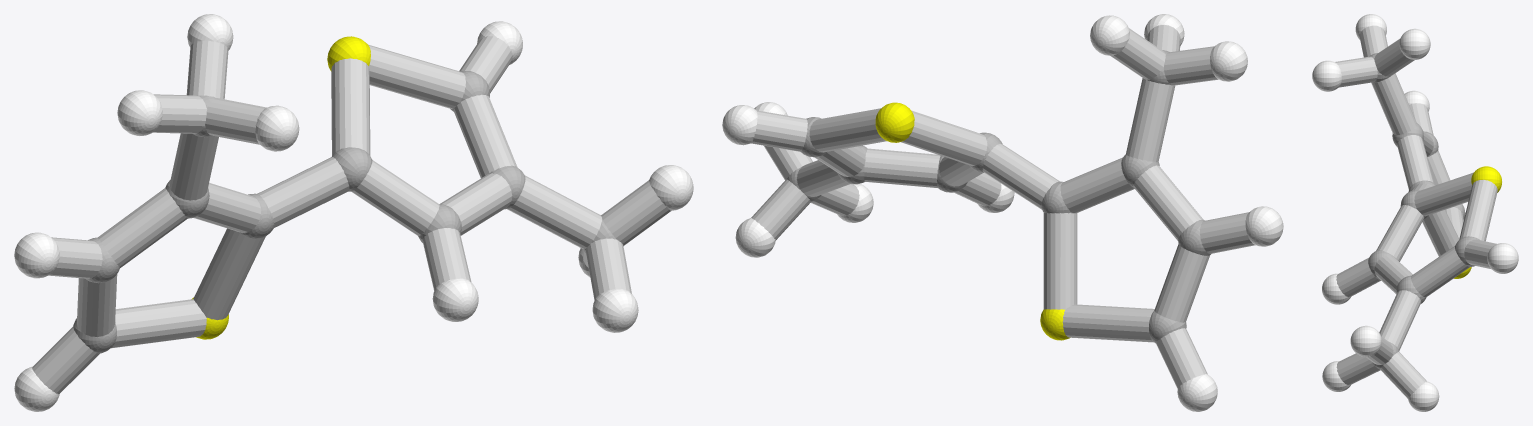
Rendered from Methylthiophene_Phi_30_Theta_290_Methylthiophene.glb.
3 views of the same model, side by side, from view 1: azimuth 30°, elevation 25°; view 2: azimuth 150°, elevation 25°; view 3: azimuth 270°, elevation 25° (orthographic). The views are drawn at different scales.
Parts seen in each view (by area): view 1: grp7965, grp3621, grp1, grp7241; view 2: grp7965, grp3621, grp1, grp7241; view 3: grp7965, grp3621, grp1, grp7241.
Part boxes in pixels (bbox=[...]): grp7965: bbox=[32, 36, 671, 394]; grp3621: bbox=[14, 14, 693, 411]; grp1: bbox=[73, 71, 616, 353]; grp7241: bbox=[191, 36, 370, 339]; grp7965: bbox=[751, 24, 1255, 388]; grp3621: bbox=[722, 14, 1283, 411]; grp1: bbox=[786, 50, 1210, 343]; grp7241: bbox=[875, 102, 1070, 340]; grp7965: bbox=[1335, 25, 1497, 398]; grp3621: bbox=[1312, 14, 1518, 411]; grp1: bbox=[1368, 53, 1479, 369]; grp7241: bbox=[1454, 166, 1501, 278].
Bounding box in the file's own units: 9.59 × 5.56 × 3.94.
